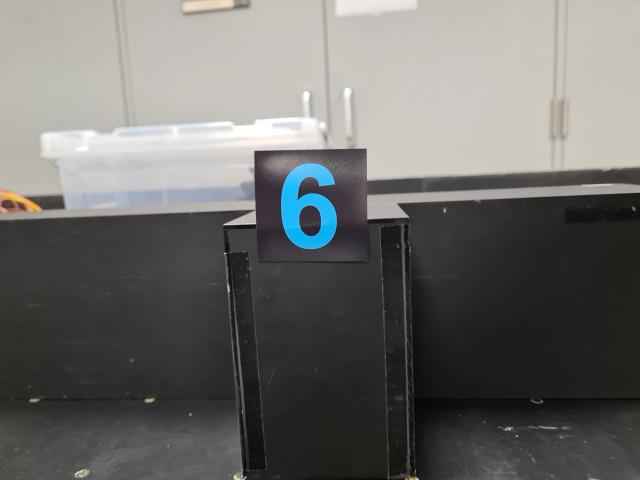six: (255, 147, 367, 261)
